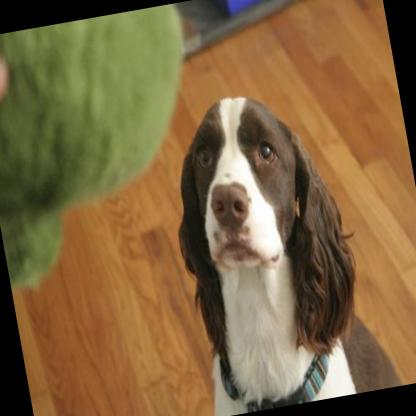English_springer: (153, 75, 403, 416)
